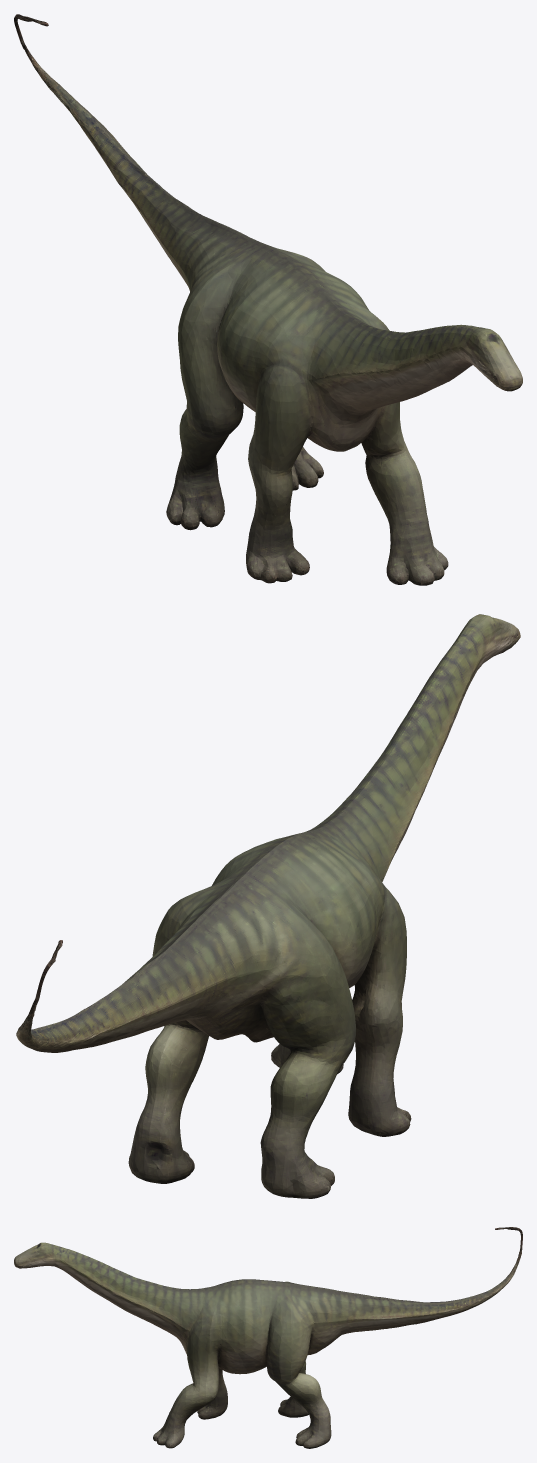
3 views of the same model, one above another, from view 1: azimuth 30°, elevation 25°; view 2: azimuth 150°, elevation 25°; view 3: azimuth 270°, elevation 25° (orthographic). The views are drawn at different scales.
Visible parts, largest first — view 1: world; view 2: world; view 3: world.
Part boxes in pixels (bbox=[...]): world: bbox=[14, 14, 522, 585]; world: bbox=[16, 614, 520, 1198]; world: bbox=[14, 1227, 522, 1448].
Size of the model in its own units: 5.16 by 10.54 by 25.
Materials: 1 (1 with a texture image).
